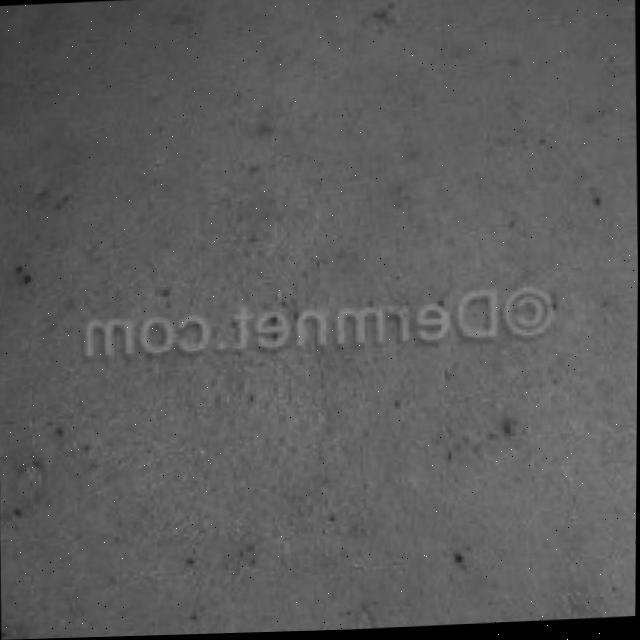Acne: (217, 148, 279, 227)
